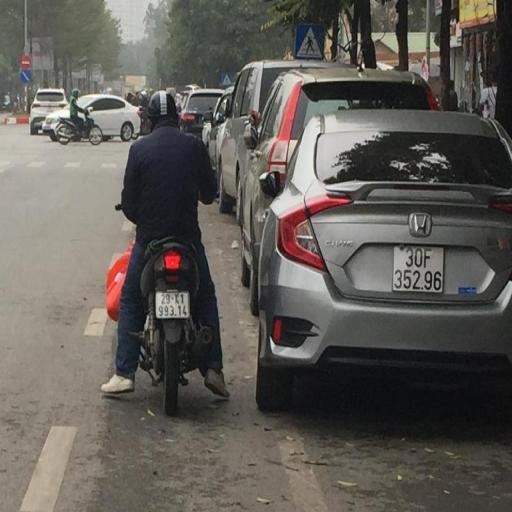bike: (102, 87, 232, 416)
numberplate: (393, 244, 444, 294), (156, 291, 190, 318)
with helmet: (148, 91, 178, 122)
